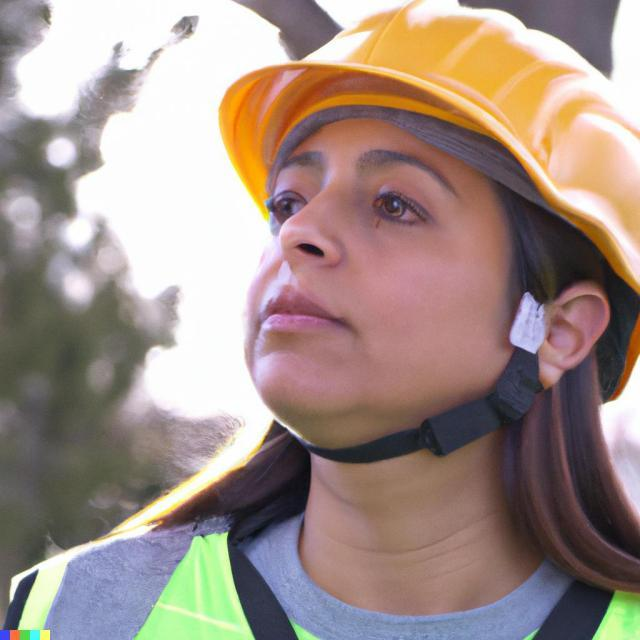reflective_jacket: (19, 427, 637, 637)
safety_helmet: (217, 0, 639, 283)
